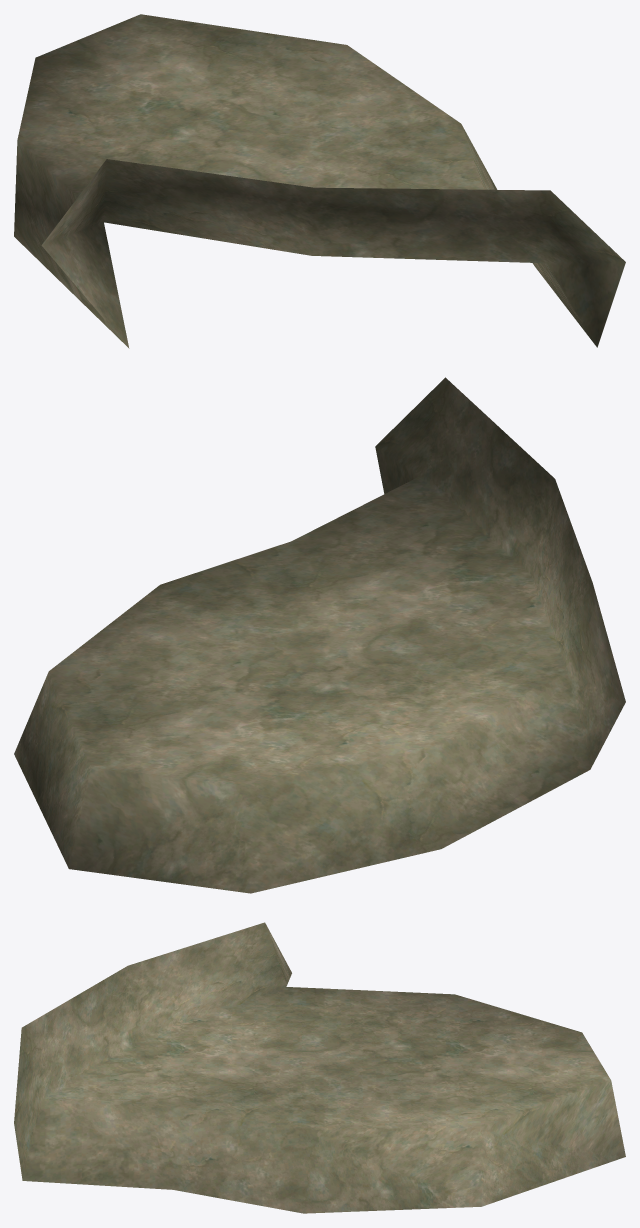
File: EKH_GROTTO_PS_GR_OBJECT14.fbx
The picture shows the model from 3 angles, top to bottom: view 1: azimuth 30°, elevation 25°; view 2: azimuth 150°, elevation 25°; view 3: azimuth 270°, elevation 25°; orthographic projection. The views are drawn at different scales.
Parts seen in each view (by area): view 1: EKH_GROTTO_PS_GR_OBJECT14; view 2: EKH_GROTTO_PS_GR_OBJECT14; view 3: EKH_GROTTO_PS_GR_OBJECT14.
Boxes of the visible parts, x1,y1,x2,y2 form: EKH_GROTTO_PS_GR_OBJECT14: (14,14,625,348); EKH_GROTTO_PS_GR_OBJECT14: (14,377,625,893); EKH_GROTTO_PS_GR_OBJECT14: (14,922,625,1213).
Bounding box in the file's own units: 30835 × 12256 × 43844.
Materials: 1 (1 with a texture image).
